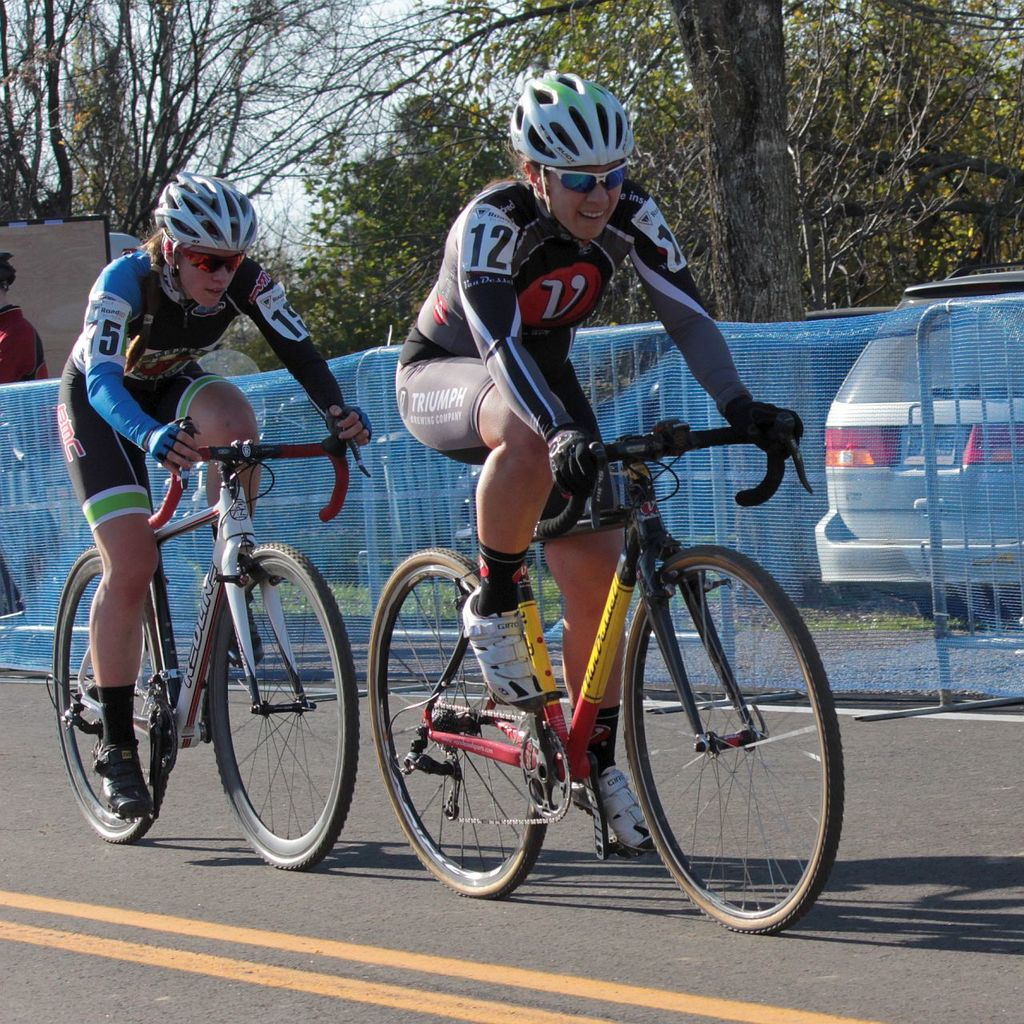Bike_toward: (59, 427, 352, 879)
